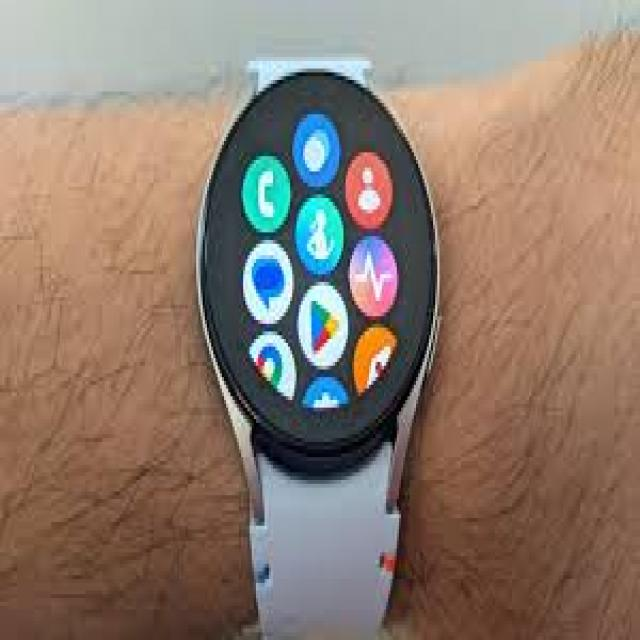objects: (191, 54, 442, 640)
